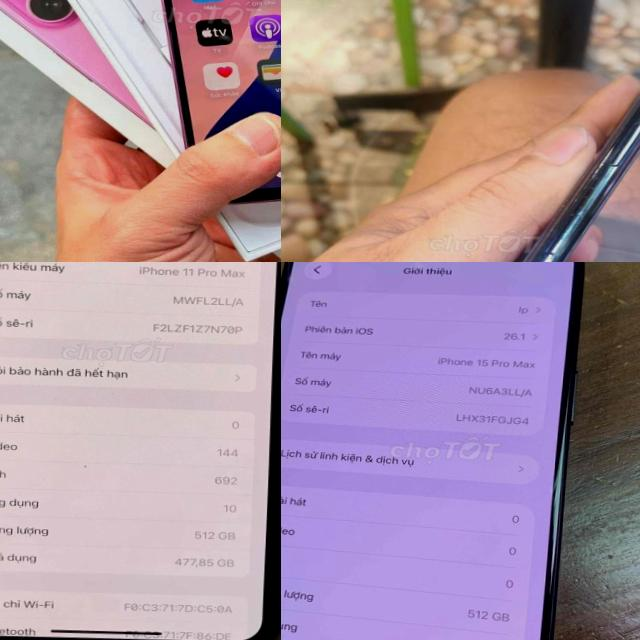gen_11: (0, 262, 281, 640), (376, 35, 640, 262)
gen_15: (281, 262, 590, 640)
gen_16: (110, 0, 281, 211)
scratch: (530, 176, 608, 225)
